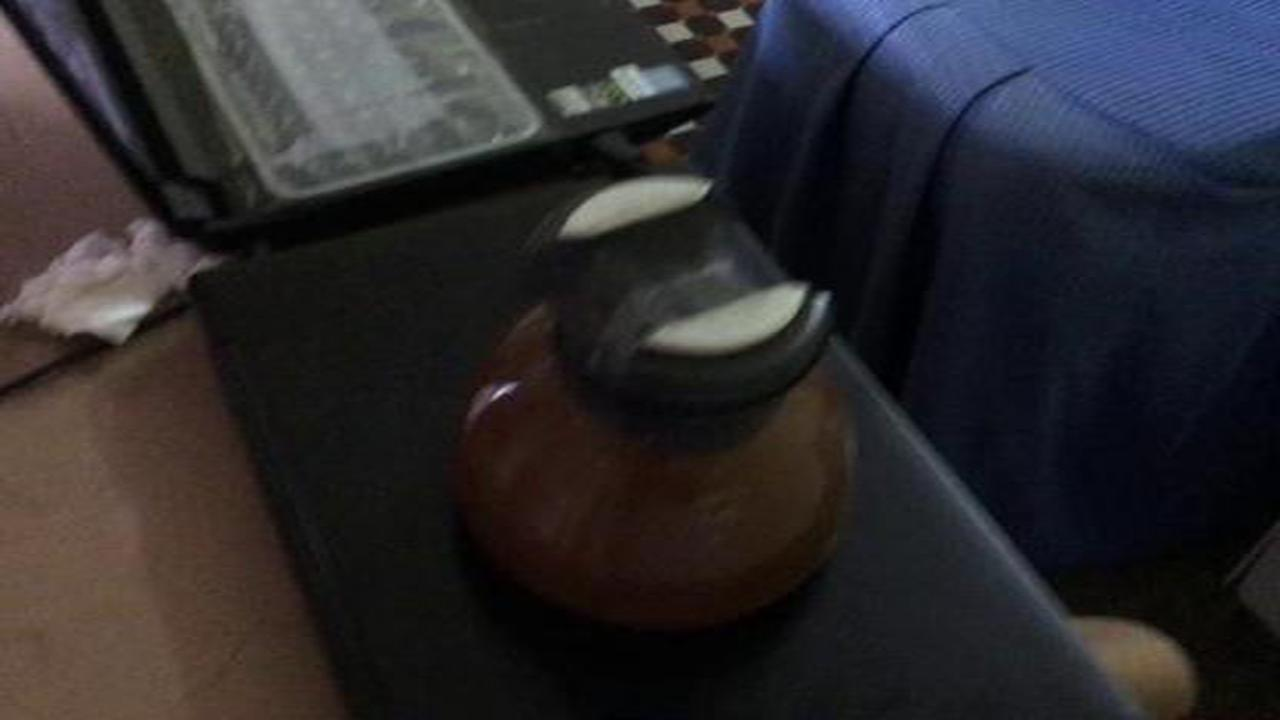insulator_pin: (442, 165, 877, 656)
